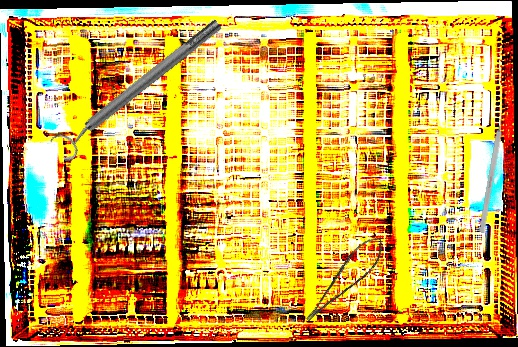Fixation Ring: (47, 11, 230, 165)
Hook Surgical: (478, 106, 507, 234)
Micro Scissor: (292, 231, 393, 325)
